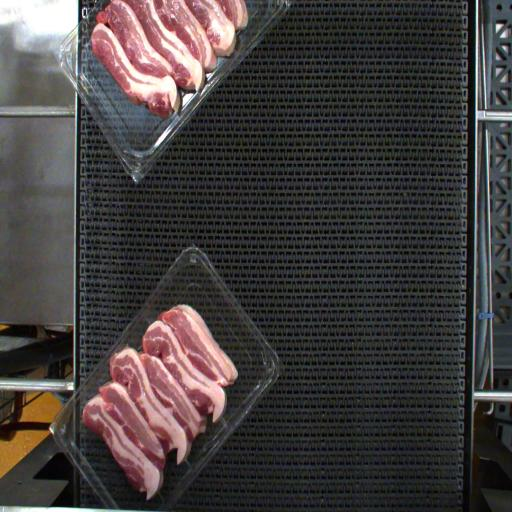packaging-error: (215, 414, 238, 440), (182, 450, 200, 480)
